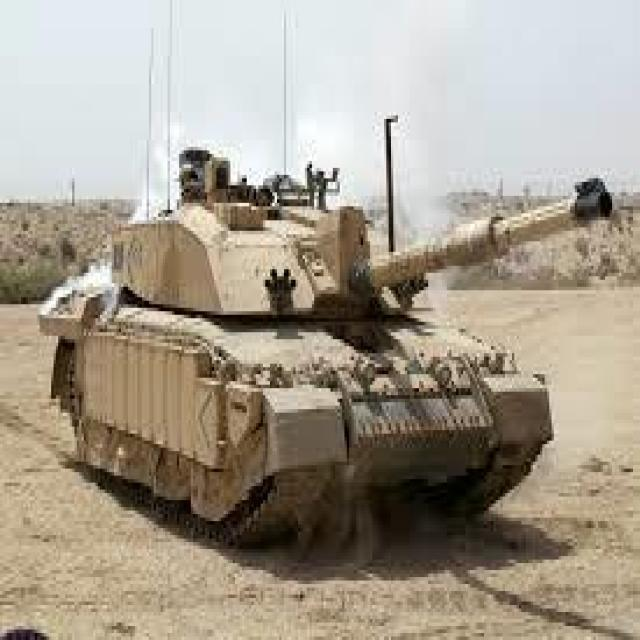MIL_MBT: (51, 124, 626, 572)
